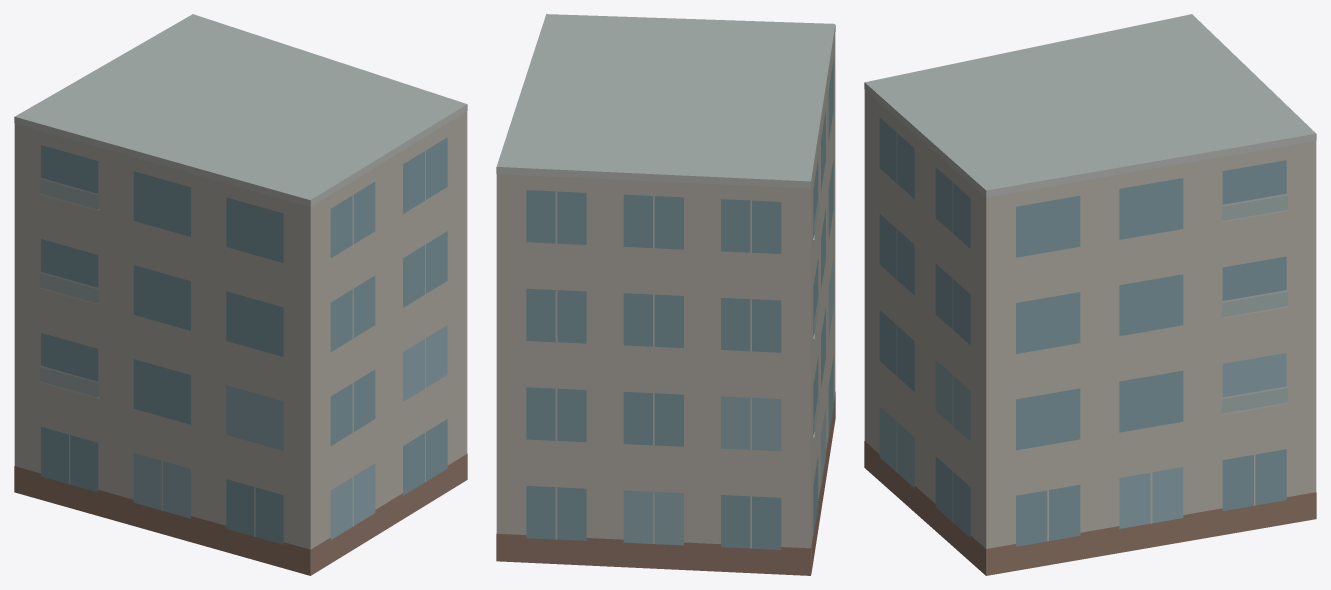
File: survey-upis-32853085.glb
The picture shows the model from 3 angles, left to right: view 1: azimuth 30°, elevation 25°; view 2: azimuth 150°, elevation 25°; view 3: azimuth 270°, elevation 25°; orthographic projection. The views are drawn at different scales.
Visible parts, largest first — view 1: survey-upis-32853085.tmp; view 2: survey-upis-32853085.tmp; view 3: survey-upis-32853085.tmp.
Part boxes in pixels (<box>): survey-upis-32853085.tmp: <box>14,14,467,575</box>; survey-upis-32853085.tmp: <box>496,14,835,575</box>; survey-upis-32853085.tmp: <box>864,14,1316,575</box>.
Size of the model in its own units: 13.22 by 13.45 by 14.3.
